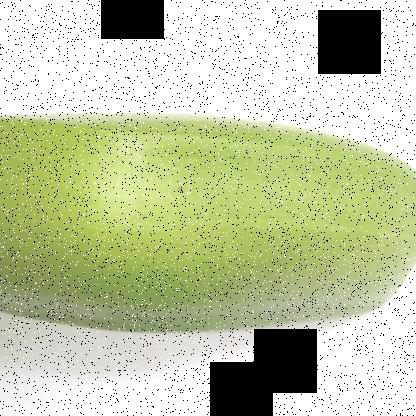freshunripe: (1, 86, 415, 350)
